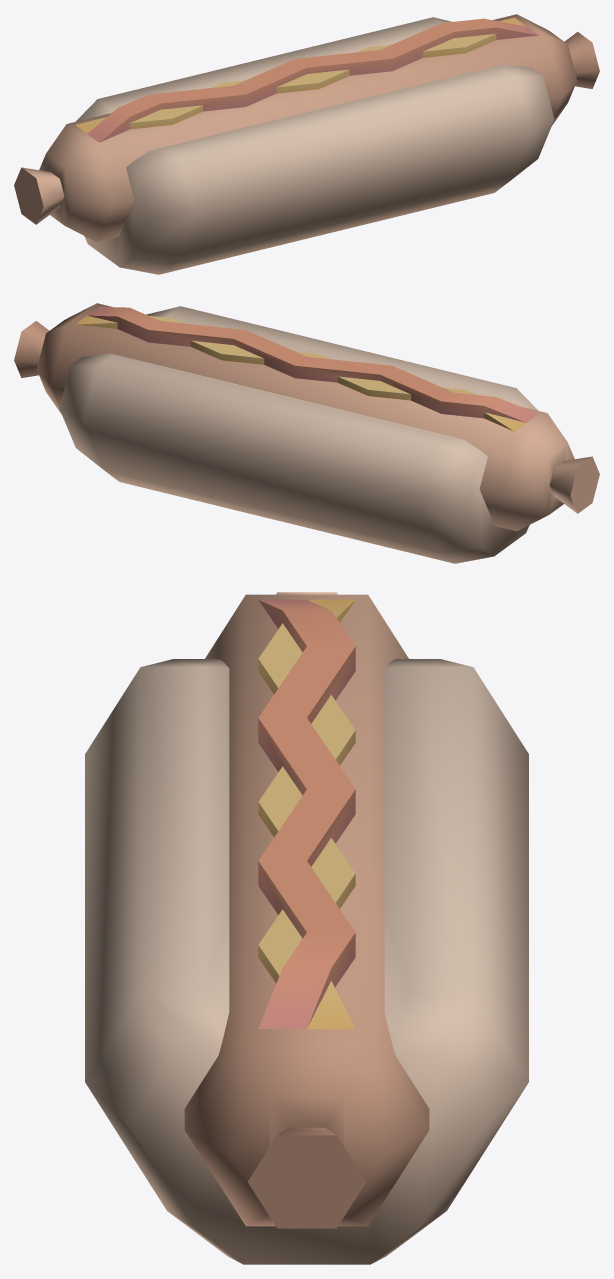
File: hot-dog.glb
The picture shows the model from 3 angles, top to bottom: view 1: azimuth 30°, elevation 25°; view 2: azimuth 150°, elevation 25°; view 3: azimuth 270°, elevation 25°; orthographic projection. The views are drawn at different scales.
Visible parts, largest first — view 1: hot-dog; view 2: hot-dog; view 3: hot-dog.
Boxes of the visible parts, box(x1,y1,x2,y2) form: hot-dog: box(14, 14, 599, 274); hot-dog: box(14, 303, 599, 563); hot-dog: box(85, 592, 528, 1264).
Bounding box in the file's own units: 0.5859 × 0.1525 × 0.2026.
